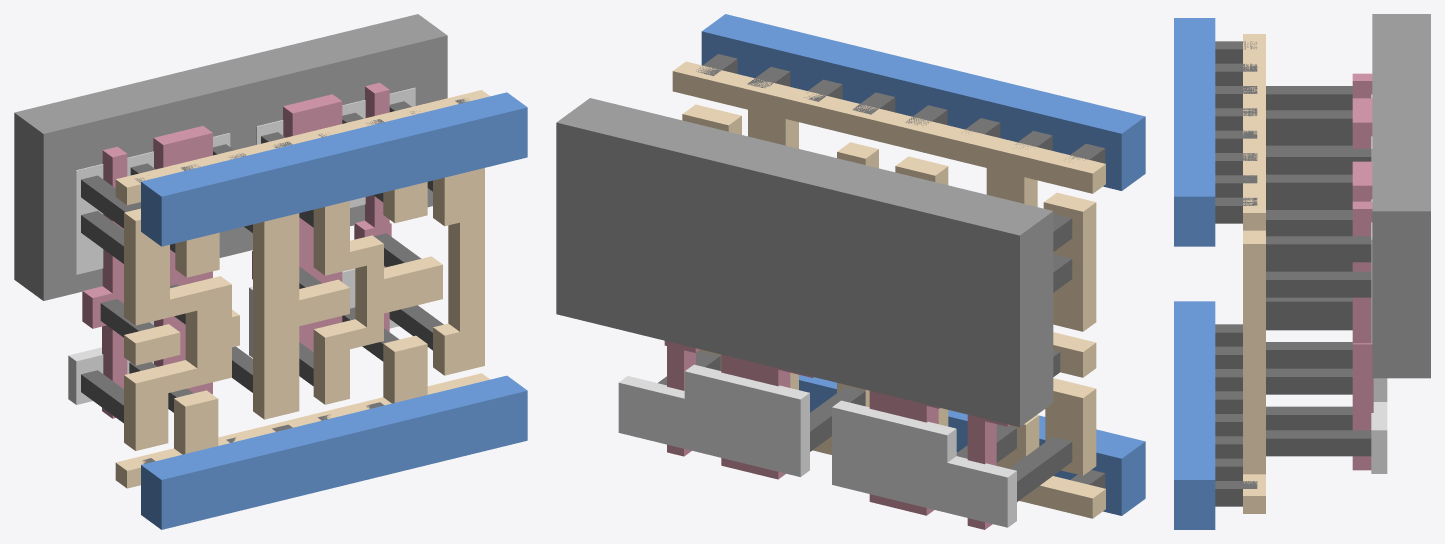
File: sky130_fd_sc_hd__clkdlybuf4s50_1.gds.gltf
The picture shows the model from 3 angles, left to right: view 1: azimuth 30°, elevation 25°; view 2: azimuth 150°, elevation 25°; view 3: azimuth 270°, elevation 25°; orthographic projection. The views are drawn at different scales.
Parts seen in each view (by area): view 1: sky130_fd_sc_hd__clkdlybuf4s50_1_li1, sky130_fd_sc_hd__clkdlybuf4s50_1_met1, sky130_fd_sc_hd__clkdlybuf4s50_1_nwell, sky130_fd_sc_hd__clkdlybuf4s50_1_poly, sky130_fd_sc_hd__clkdlybuf4s50_1_licon, sky130_fd_sc_hd__clkdlybuf4s50_1_diff, sky130_fd_sc_hd__clkdlybuf4s50_1_mcon; view 2: sky130_fd_sc_hd__clkdlybuf4s50_1_nwell, sky130_fd_sc_hd__clkdlybuf4s50_1_li1, sky130_fd_sc_hd__clkdlybuf4s50_1_diff, sky130_fd_sc_hd__clkdlybuf4s50_1_met1, sky130_fd_sc_hd__clkdlybuf4s50_1_poly, sky130_fd_sc_hd__clkdlybuf4s50_1_licon, sky130_fd_sc_hd__clkdlybuf4s50_1_mcon; view 3: sky130_fd_sc_hd__clkdlybuf4s50_1_licon, sky130_fd_sc_hd__clkdlybuf4s50_1_nwell, sky130_fd_sc_hd__clkdlybuf4s50_1_met1, sky130_fd_sc_hd__clkdlybuf4s50_1_mcon, sky130_fd_sc_hd__clkdlybuf4s50_1_li1, sky130_fd_sc_hd__clkdlybuf4s50_1_poly, sky130_fd_sc_hd__clkdlybuf4s50_1_diff.
Boxes of the visible parts, left/top/right/bottom form: sky130_fd_sc_hd__clkdlybuf4s50_1_li1: left=115, top=90, right=489, bottom=488; sky130_fd_sc_hd__clkdlybuf4s50_1_met1: left=141, top=92, right=527, bottom=529; sky130_fd_sc_hd__clkdlybuf4s50_1_nwell: left=14, top=14, right=447, bottom=300; sky130_fd_sc_hd__clkdlybuf4s50_1_poly: left=82, top=82, right=391, bottom=418; sky130_fd_sc_hd__clkdlybuf4s50_1_licon: left=81, top=101, right=443, bottom=423; sky130_fd_sc_hd__clkdlybuf4s50_1_diff: left=68, top=87, right=415, bottom=404; sky130_fd_sc_hd__clkdlybuf4s50_1_mcon: left=135, top=98, right=469, bottom=463; sky130_fd_sc_hd__clkdlybuf4s50_1_nwell: left=556, top=98, right=1053, bottom=427; sky130_fd_sc_hd__clkdlybuf4s50_1_li1: left=672, top=61, right=1105, bottom=518; sky130_fd_sc_hd__clkdlybuf4s50_1_diff: left=618, top=364, right=1016, bottom=527; sky130_fd_sc_hd__clkdlybuf4s50_1_met1: left=701, top=14, right=1145, bottom=515; sky130_fd_sc_hd__clkdlybuf4s50_1_poly: left=664, top=341, right=1009, bottom=529; sky130_fd_sc_hd__clkdlybuf4s50_1_licon: left=658, top=213, right=1072, bottom=501; sky130_fd_sc_hd__clkdlybuf4s50_1_mcon: left=696, top=54, right=1105, bottom=488; sky130_fd_sc_hd__clkdlybuf4s50_1_licon: left=1266, top=86, right=1371, bottom=456; sky130_fd_sc_hd__clkdlybuf4s50_1_nwell: left=1372, top=14, right=1430, bottom=378; sky130_fd_sc_hd__clkdlybuf4s50_1_met1: left=1174, top=18, right=1215, bottom=529; sky130_fd_sc_hd__clkdlybuf4s50_1_mcon: left=1215, top=41, right=1257, bottom=506; sky130_fd_sc_hd__clkdlybuf4s50_1_li1: left=1243, top=34, right=1265, bottom=513; sky130_fd_sc_hd__clkdlybuf4s50_1_poly: left=1352, top=73, right=1373, bottom=470; sky130_fd_sc_hd__clkdlybuf4s50_1_diff: left=1371, top=94, right=1387, bottom=473.
Size of the model in its own units: 4.06 by 3.2 by 2.24.
